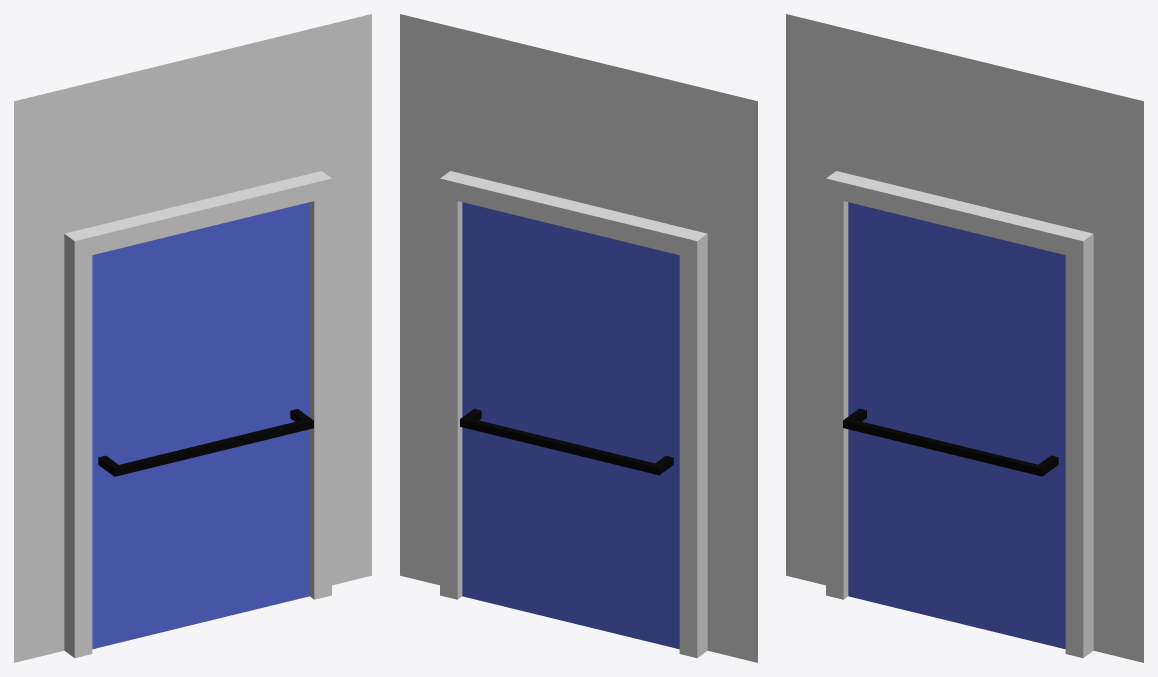
The model's file is model_door_02_close.fbx.
3 views of the same model, side by side, from view 1: azimuth 30°, elevation 25°; view 2: azimuth 150°, elevation 25°; view 3: azimuth 330°, elevation 25° (orthographic).
Parts seen in each view (by area): view 1: Plane.030; view 2: Plane.030; view 3: Plane.030.
Part boxes in pixels (x1,y1,x2,y2): Plane.030: (14, 14, 371, 662); Plane.030: (400, 14, 757, 662); Plane.030: (786, 14, 1143, 662).
Size of the model in its own units: 200 by 300 by 40.28.
